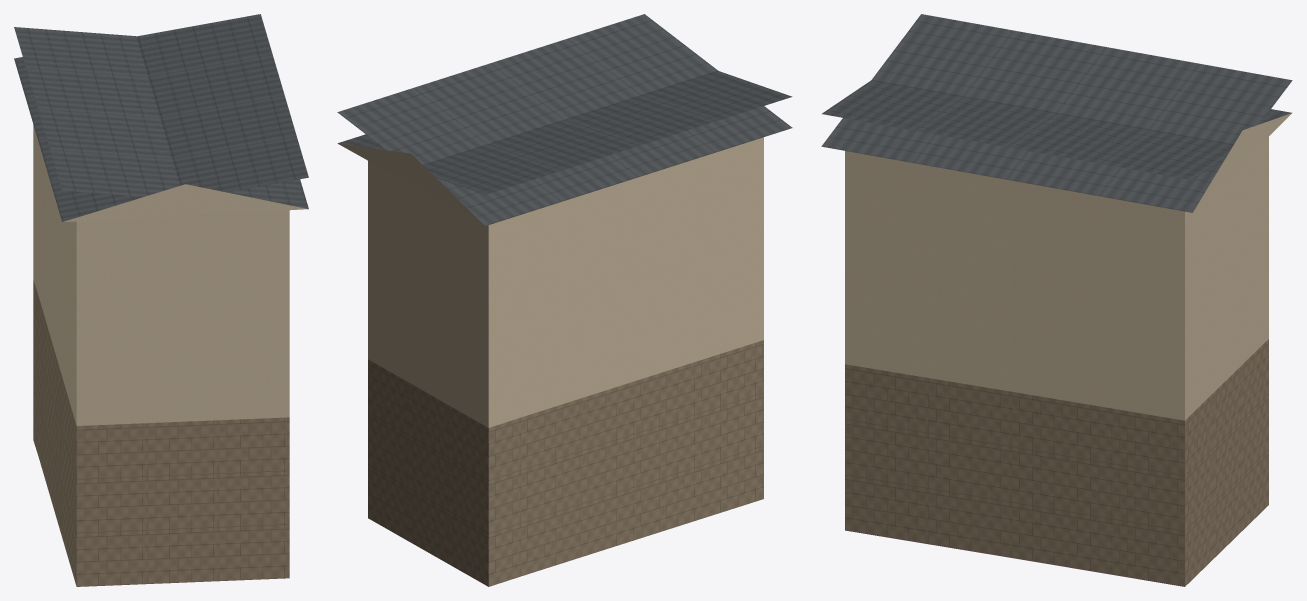
File: bld_c8_25_412.gltf
The picture shows the model from 3 angles, left to right: view 1: azimuth 30°, elevation 25°; view 2: azimuth 150°, elevation 25°; view 3: azimuth 270°, elevation 25°; orthographic projection. The views are drawn at different scales.
Parts seen in each view (by area): view 1: bld_c8_25_412; view 2: bld_c8_25_412; view 3: bld_c8_25_412.
Part boxes in pixels (x1=…): bld_c8_25_412: x1=14, y1=14, x2=308, y2=586; bld_c8_25_412: x1=337, y1=14, x2=792, y2=586; bld_c8_25_412: x1=821, y1=14, x2=1292, y2=586.
Bounding box in the file's own units: 10.94 × 12.9 × 13.1.
4 materials, 4 textured.
